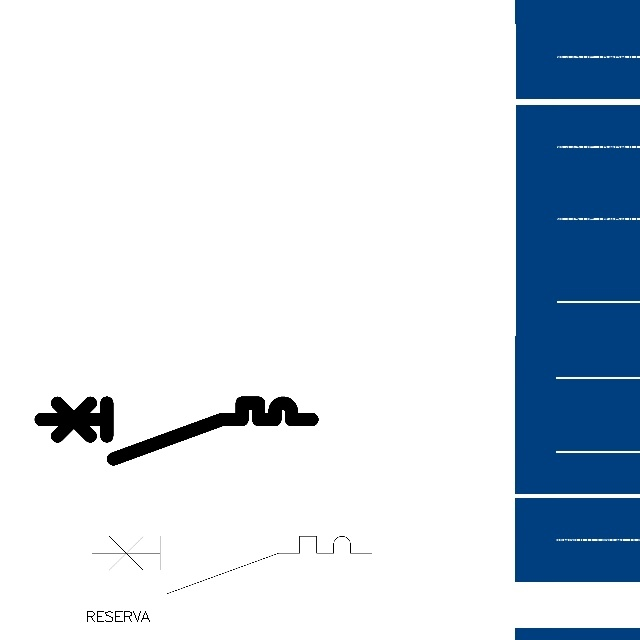interruptor_termomagnetico: (85, 529, 379, 601), (34, 396, 319, 466)
